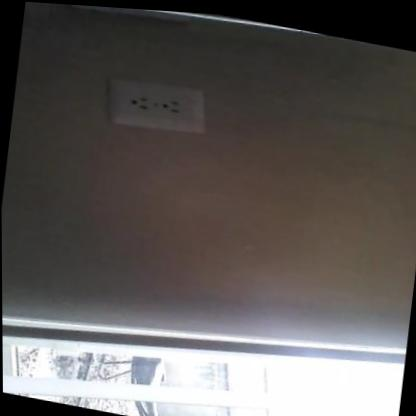OUTLET: (107, 77, 202, 138)
